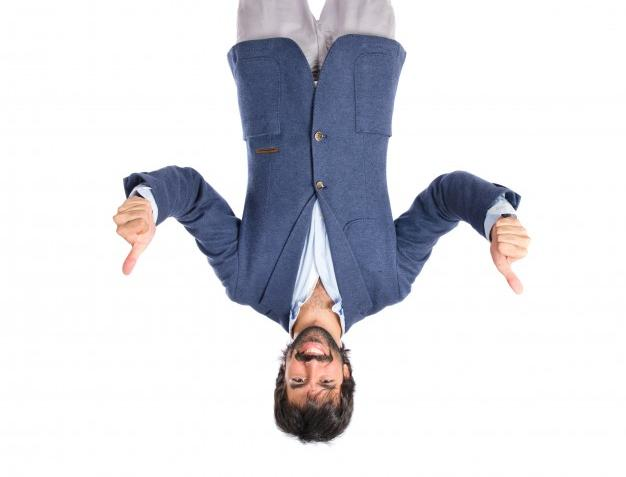thumbsdown: (113, 196, 154, 275), (494, 217, 530, 294)
